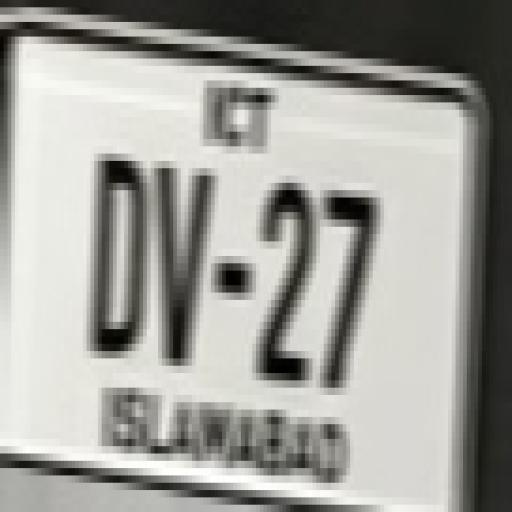2: (254, 176, 318, 396)
7: (322, 184, 388, 408)
D: (88, 164, 137, 356)
V: (151, 140, 207, 367)
